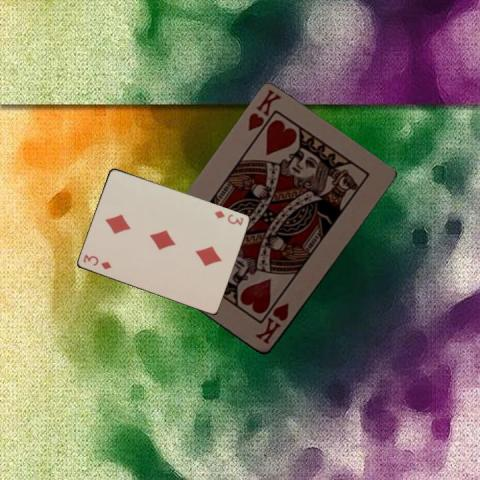3d: (212, 207, 246, 227), (80, 251, 113, 271)
Kh: (252, 300, 291, 346), (244, 86, 282, 133)
